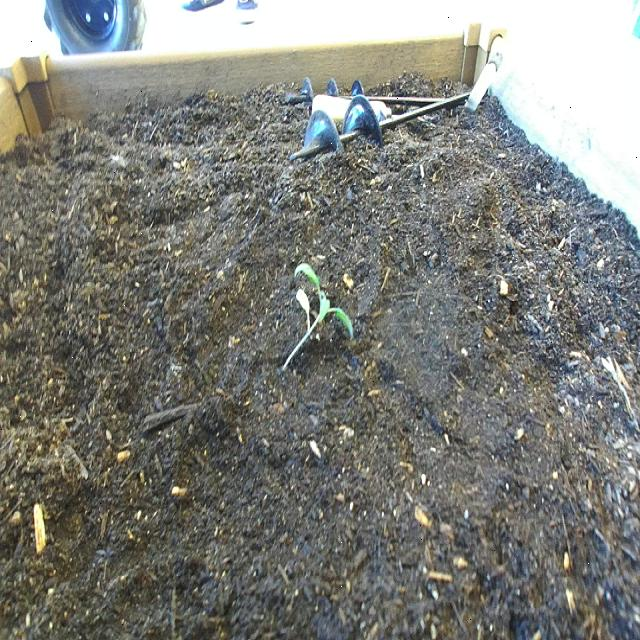Unhealthy: (275, 256, 359, 379)
